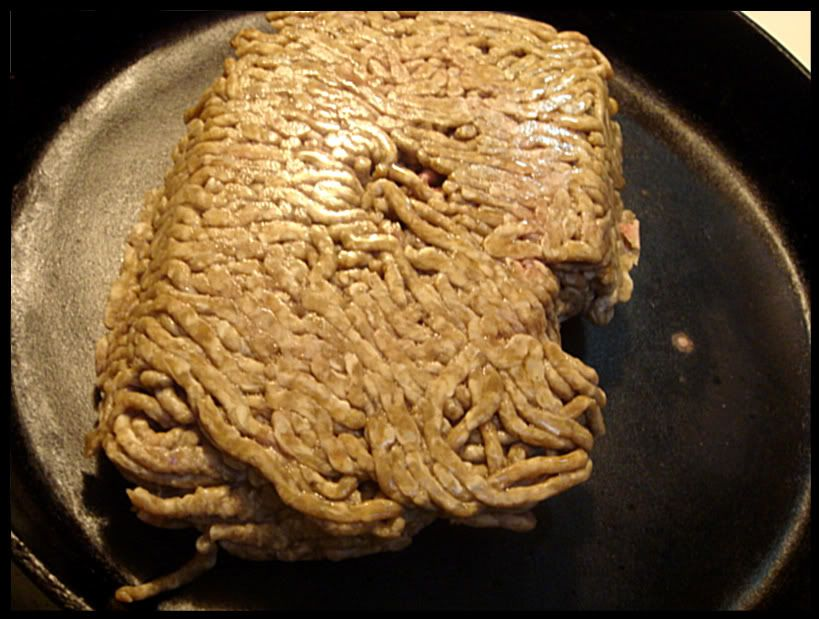ground_beef: (149, 16, 594, 525)
